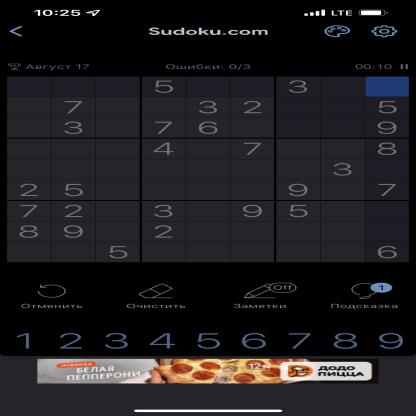sudoku: (2, 72, 416, 265)
